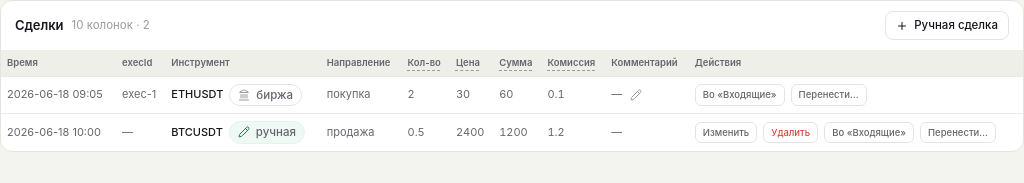
Test case: таблица сделок карточки: подсказки заголовков колонок › даёт подсказку колонке «Кол-во» с назначением без метода
наведение на заголовок колонки.
Hover over the button "Кол-во": (424, 63) top-left (408, 56), bottom-right (441, 70)
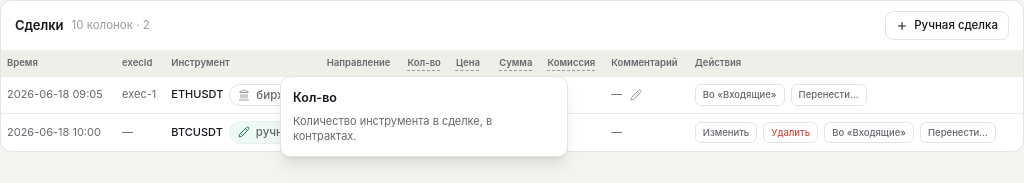
Expected: the tooltip does not show "Сумма реализованного и нереализованного P&L позиций и внешних корректировок PnL.", top-left (280, 76), bottom-right (568, 157)
Expected: the tooltip shows "Кол-во", top-left (293, 90), bottom-right (337, 105)
Expected: the tooltip shows "Количество инструмента в сделке, в контрактах.", top-left (293, 114), bottom-right (492, 143)
